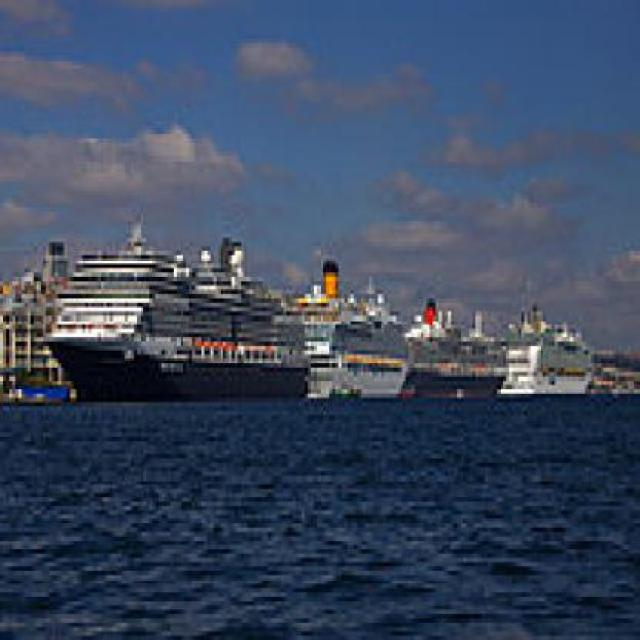cruise: (47, 221, 321, 421)
